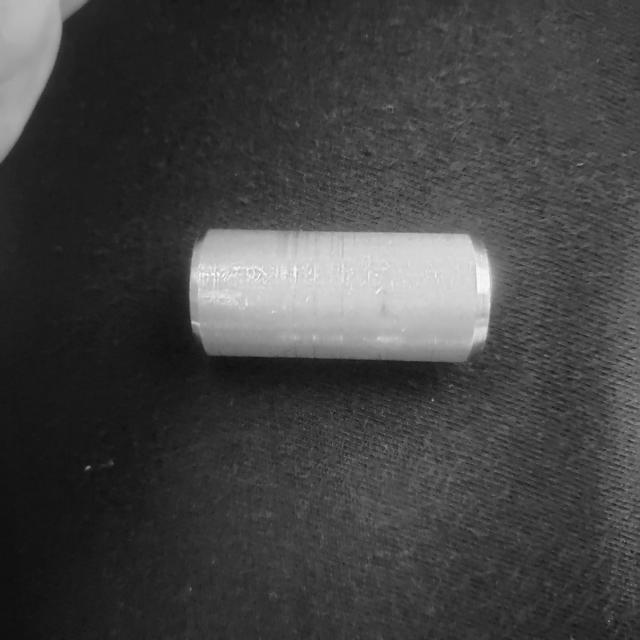Broken: (188, 222, 493, 372)
